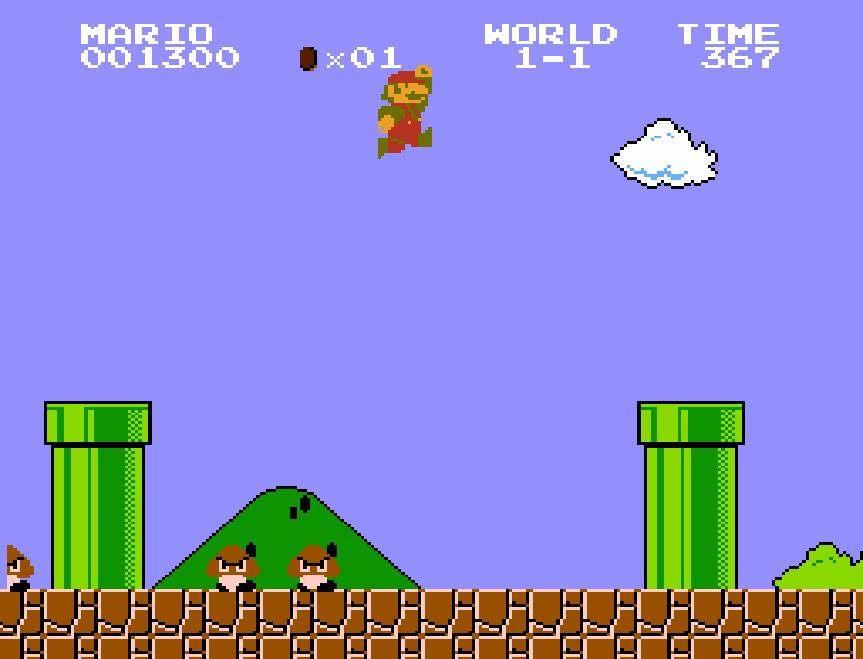big_mario: (376, 62, 434, 160)
